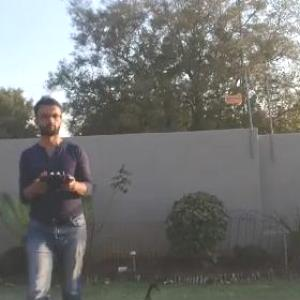follow: (17, 94, 98, 299)
